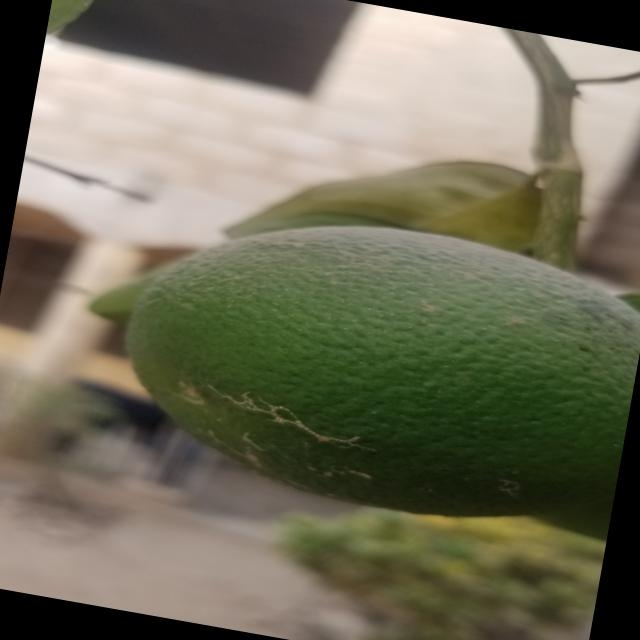agrume: (124, 181, 638, 535)
